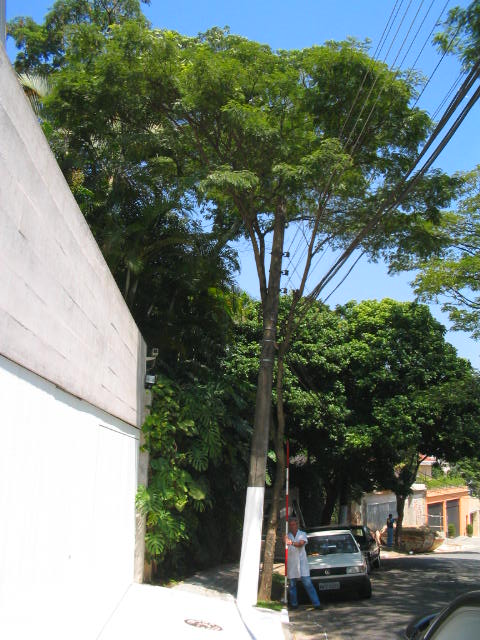crown: (36, 15, 468, 280)
stem: (255, 360, 283, 608)
stick: (280, 441, 293, 606)
tree: (36, 15, 467, 610)
